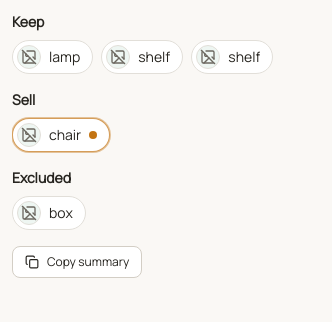
Test: ConfirmedChoicesSummary › copy text counts repeated labels as label (n) and the write happens inside the click
Click the button "Copy summary" at (77, 262), box [12,246,142,278]
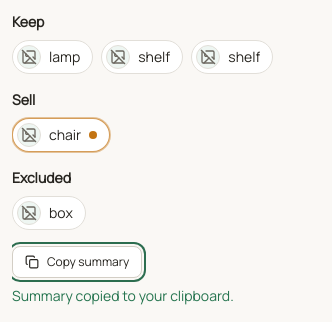
Expected: the text "Summary copied to your clipboard." is shown, [12,286,234,305]
